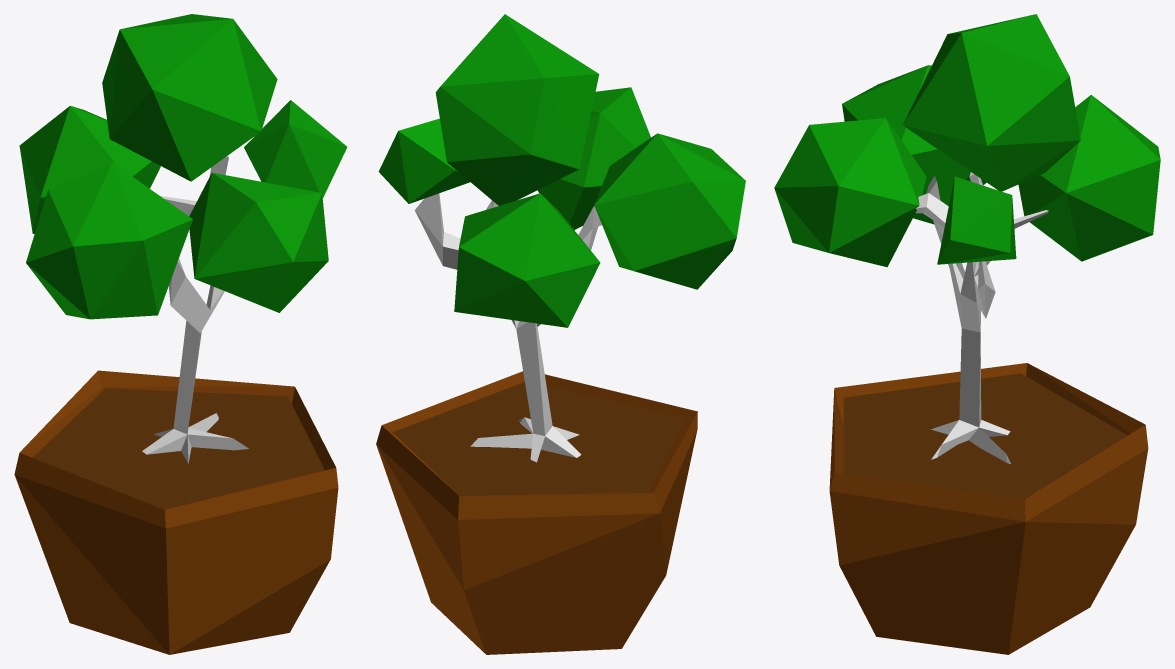
The model's file is pot plant.fbx.
3 renders of one model, left to right at view 1: azimuth 30°, elevation 25°; view 2: azimuth 150°, elevation 25°; view 3: azimuth 270°, elevation 25°, orthographic. The views are drawn at different scales.
Visible parts, largest first — view 1: pot plant; view 2: pot plant; view 3: pot plant.
Boxes of the visible parts, x1=… form: pot plant: x1=14, y1=14, x2=347, y2=654; pot plant: x1=376, y1=14, x2=745, y2=654; pot plant: x1=774, y1=14, x2=1160, y2=654.
Size of the model in its own units: 36.73 by 62.62 by 36.76.
